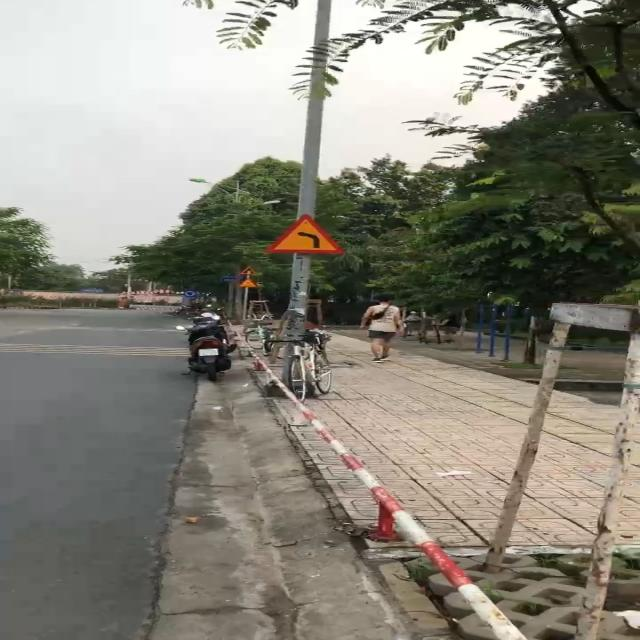Bien bao cho ngoat nguy hiem: (264, 214, 346, 256)
